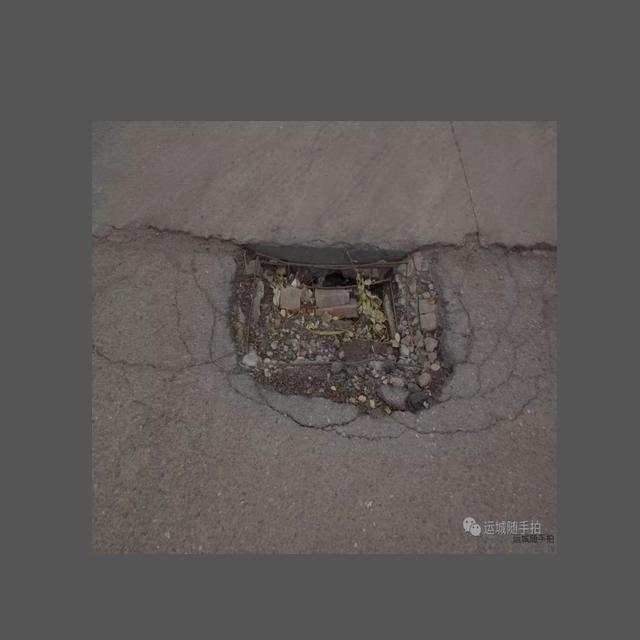broke: (190, 198, 482, 454)
